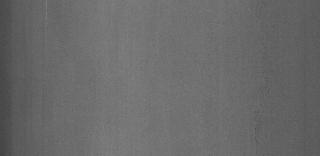silk spot: (246, 46, 280, 144)
